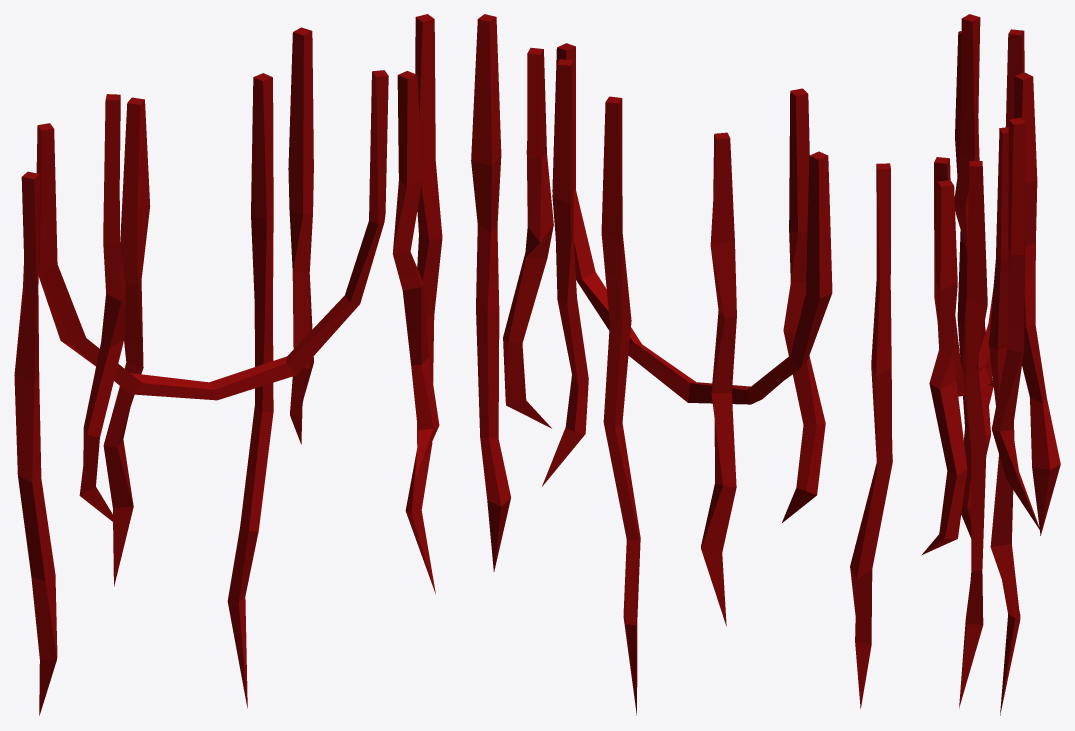
File: SM_Env_Vines_01.glb
3 renders of one model, left to right at view 1: azimuth 30°, elevation 25°; view 2: azimuth 150°, elevation 25°; view 3: azimuth 270°, elevation 25°, orthographic. The views are drawn at different scales.
Parts seen in each view (by area): view 1: SM_Env_Vines_01; view 2: SM_Env_Vines_01; view 3: SM_Env_Vines_01.
Part boxes in pixels (bbox=[...]): SM_Env_Vines_01: bbox=[14, 14, 442, 715]; SM_Env_Vines_01: bbox=[471, 14, 892, 715]; SM_Env_Vines_01: bbox=[921, 14, 1060, 715].
Bounding box in the file's own units: 1.43 × 2.14 × 0.4303.
